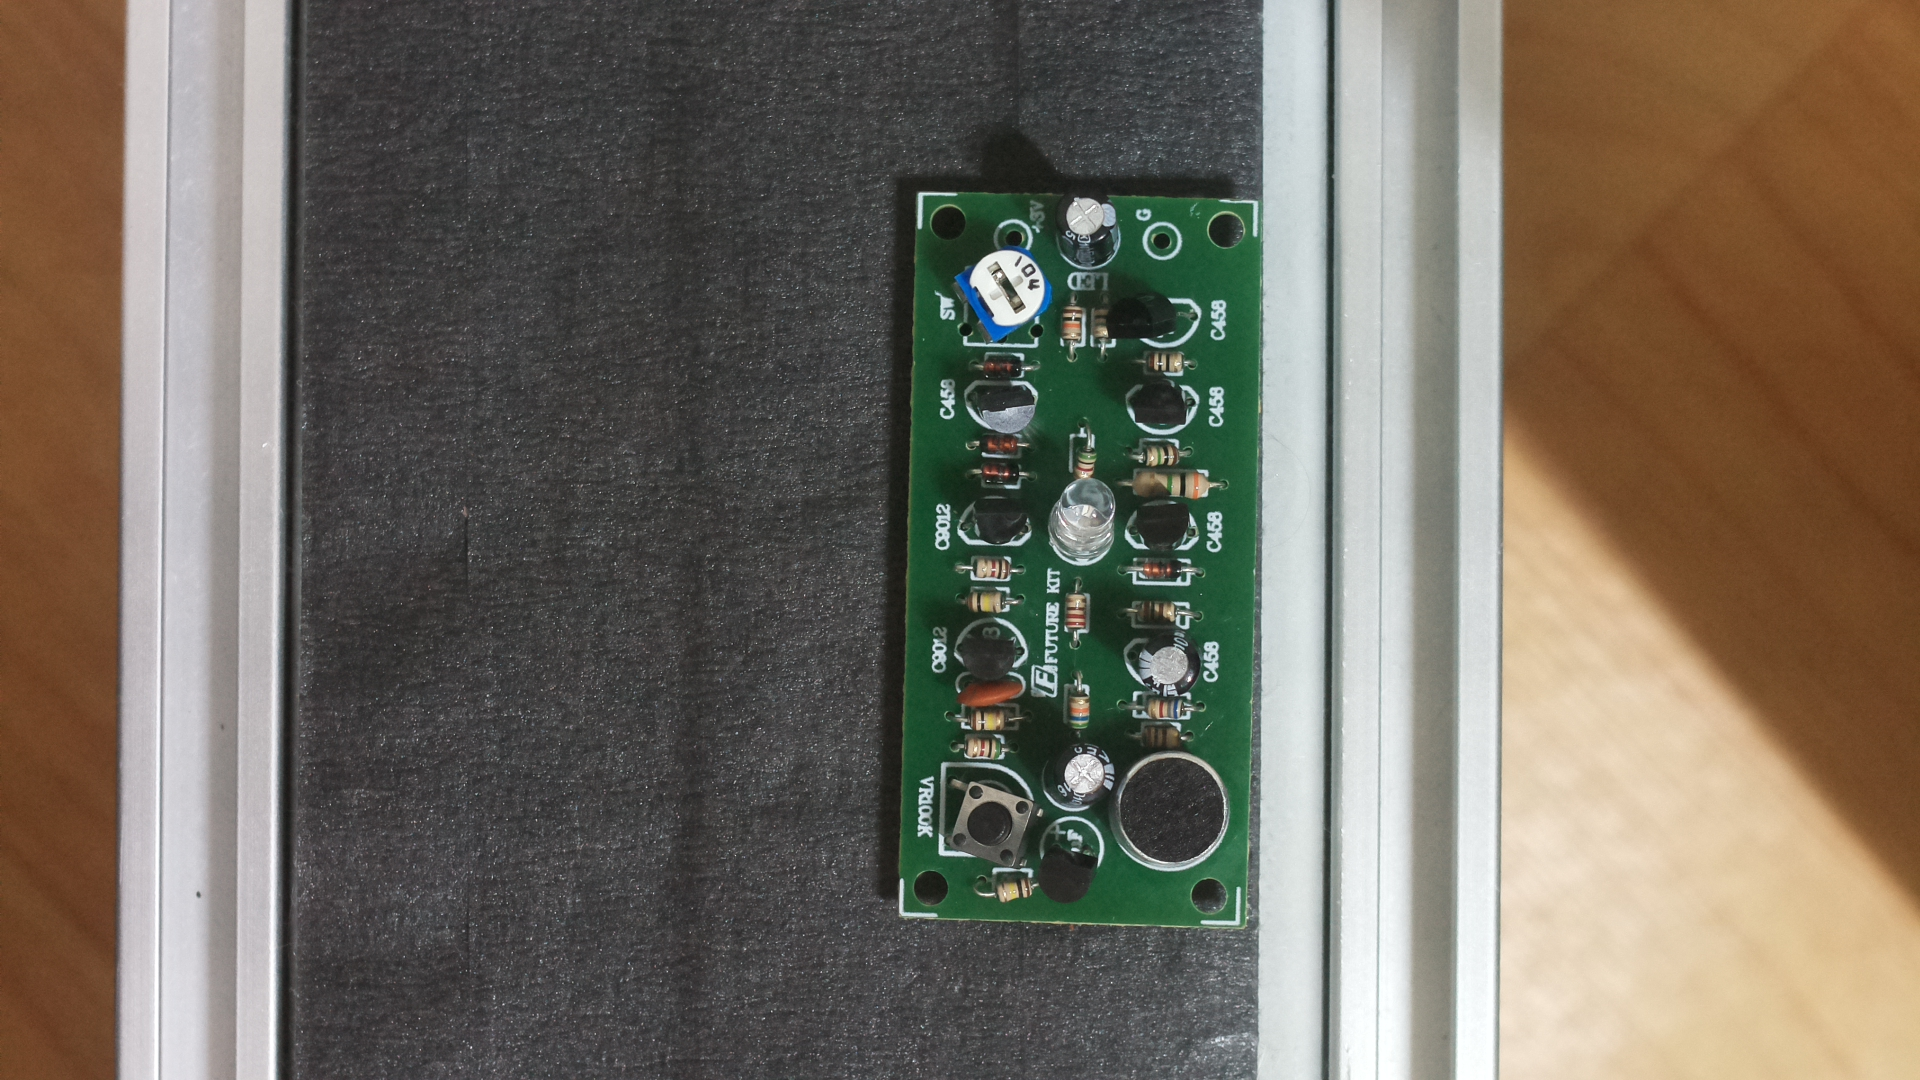A_Misordered: (894, 162, 1265, 948)
